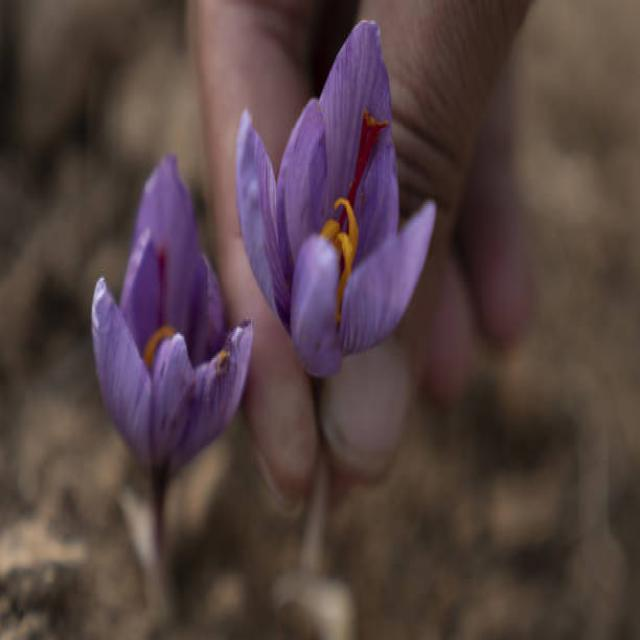saffron open: (238, 22, 435, 377), (92, 155, 252, 592)
